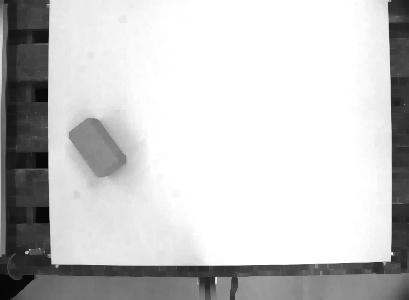b2: (65, 116, 128, 182)
